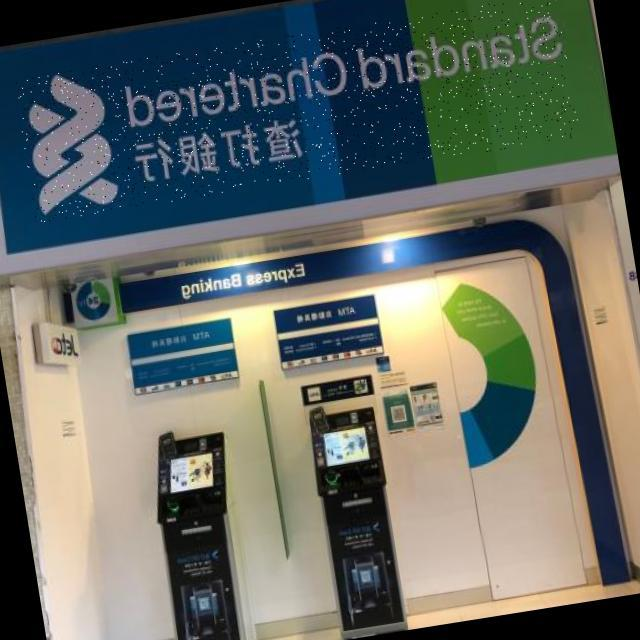Standard Chartered: (13, 0, 580, 223)
